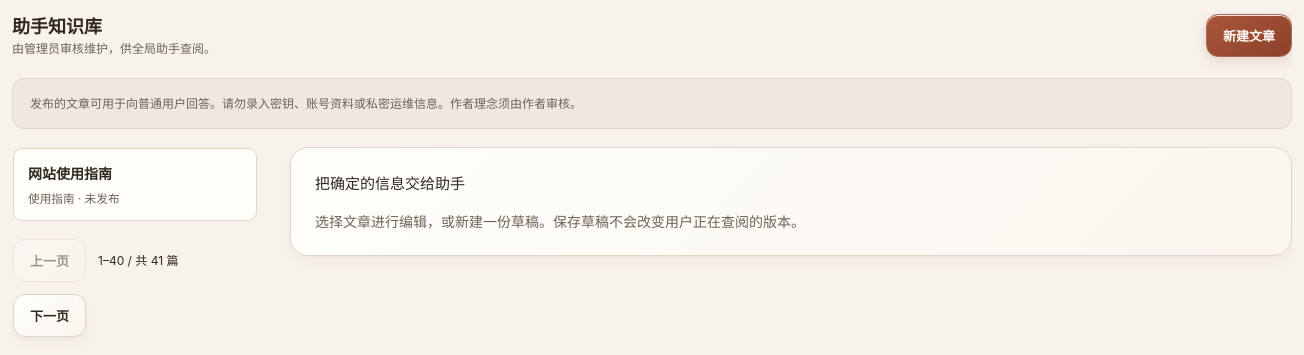
Test: keeps a previous-page escape when the last article on page two is deleted
Click the button "下一页" at (50, 316), box left=13, top=294, right=86, bottom=337
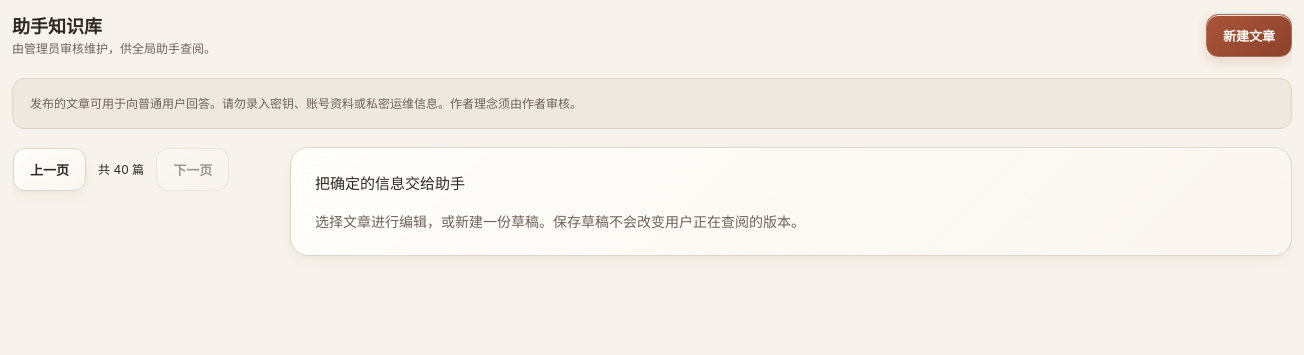
Expected: the button "上一页" is enabled, left=13, top=148, right=86, bottom=191
